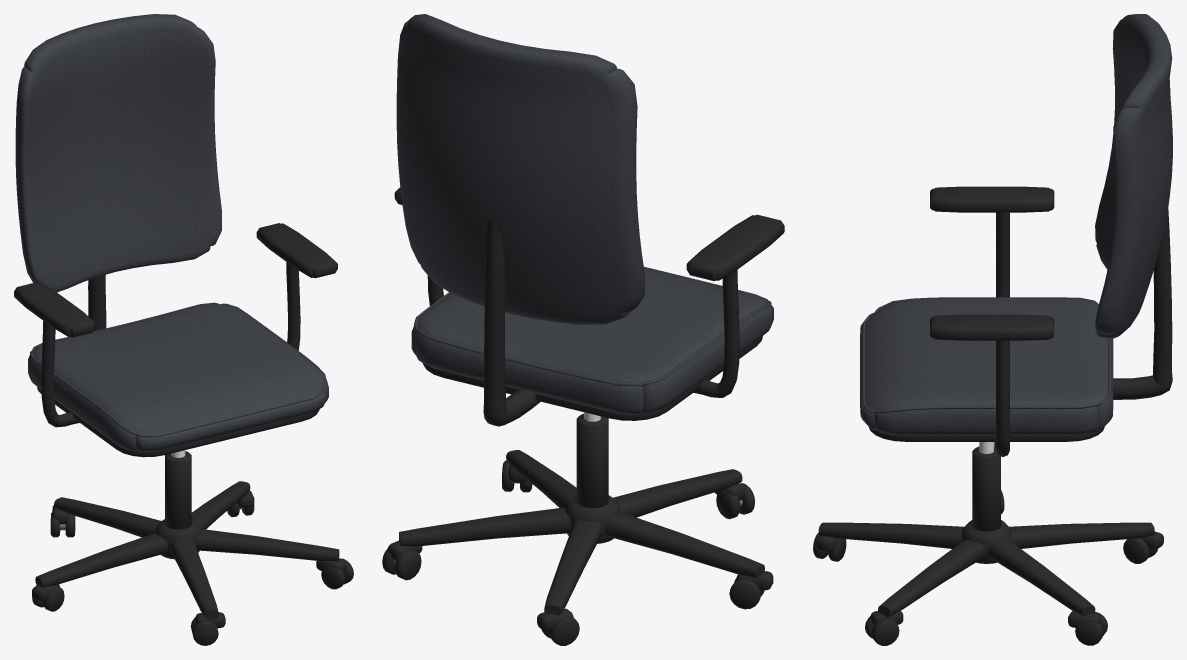
The model's file is chair.glb.
3 views of the same model, side by side, from view 1: azimuth 30°, elevation 25°; view 2: azimuth 150°, elevation 25°; view 3: azimuth 270°, elevation 25° (orthographic). The views are drawn at different scales.
Parts seen in each view (by area): view 1: chair_v1; view 2: chair_v1; view 3: chair_v1.
Part boxes in pixels (x1,y1,x2,y2): chair_v1: (14,14,353,645); chair_v1: (382,14,784,645); chair_v1: (813,14,1172,645).
Size of the model in its own units: 0.6564 by 1.09 by 0.6648.
Materials: 4 (1 with a texture image).
